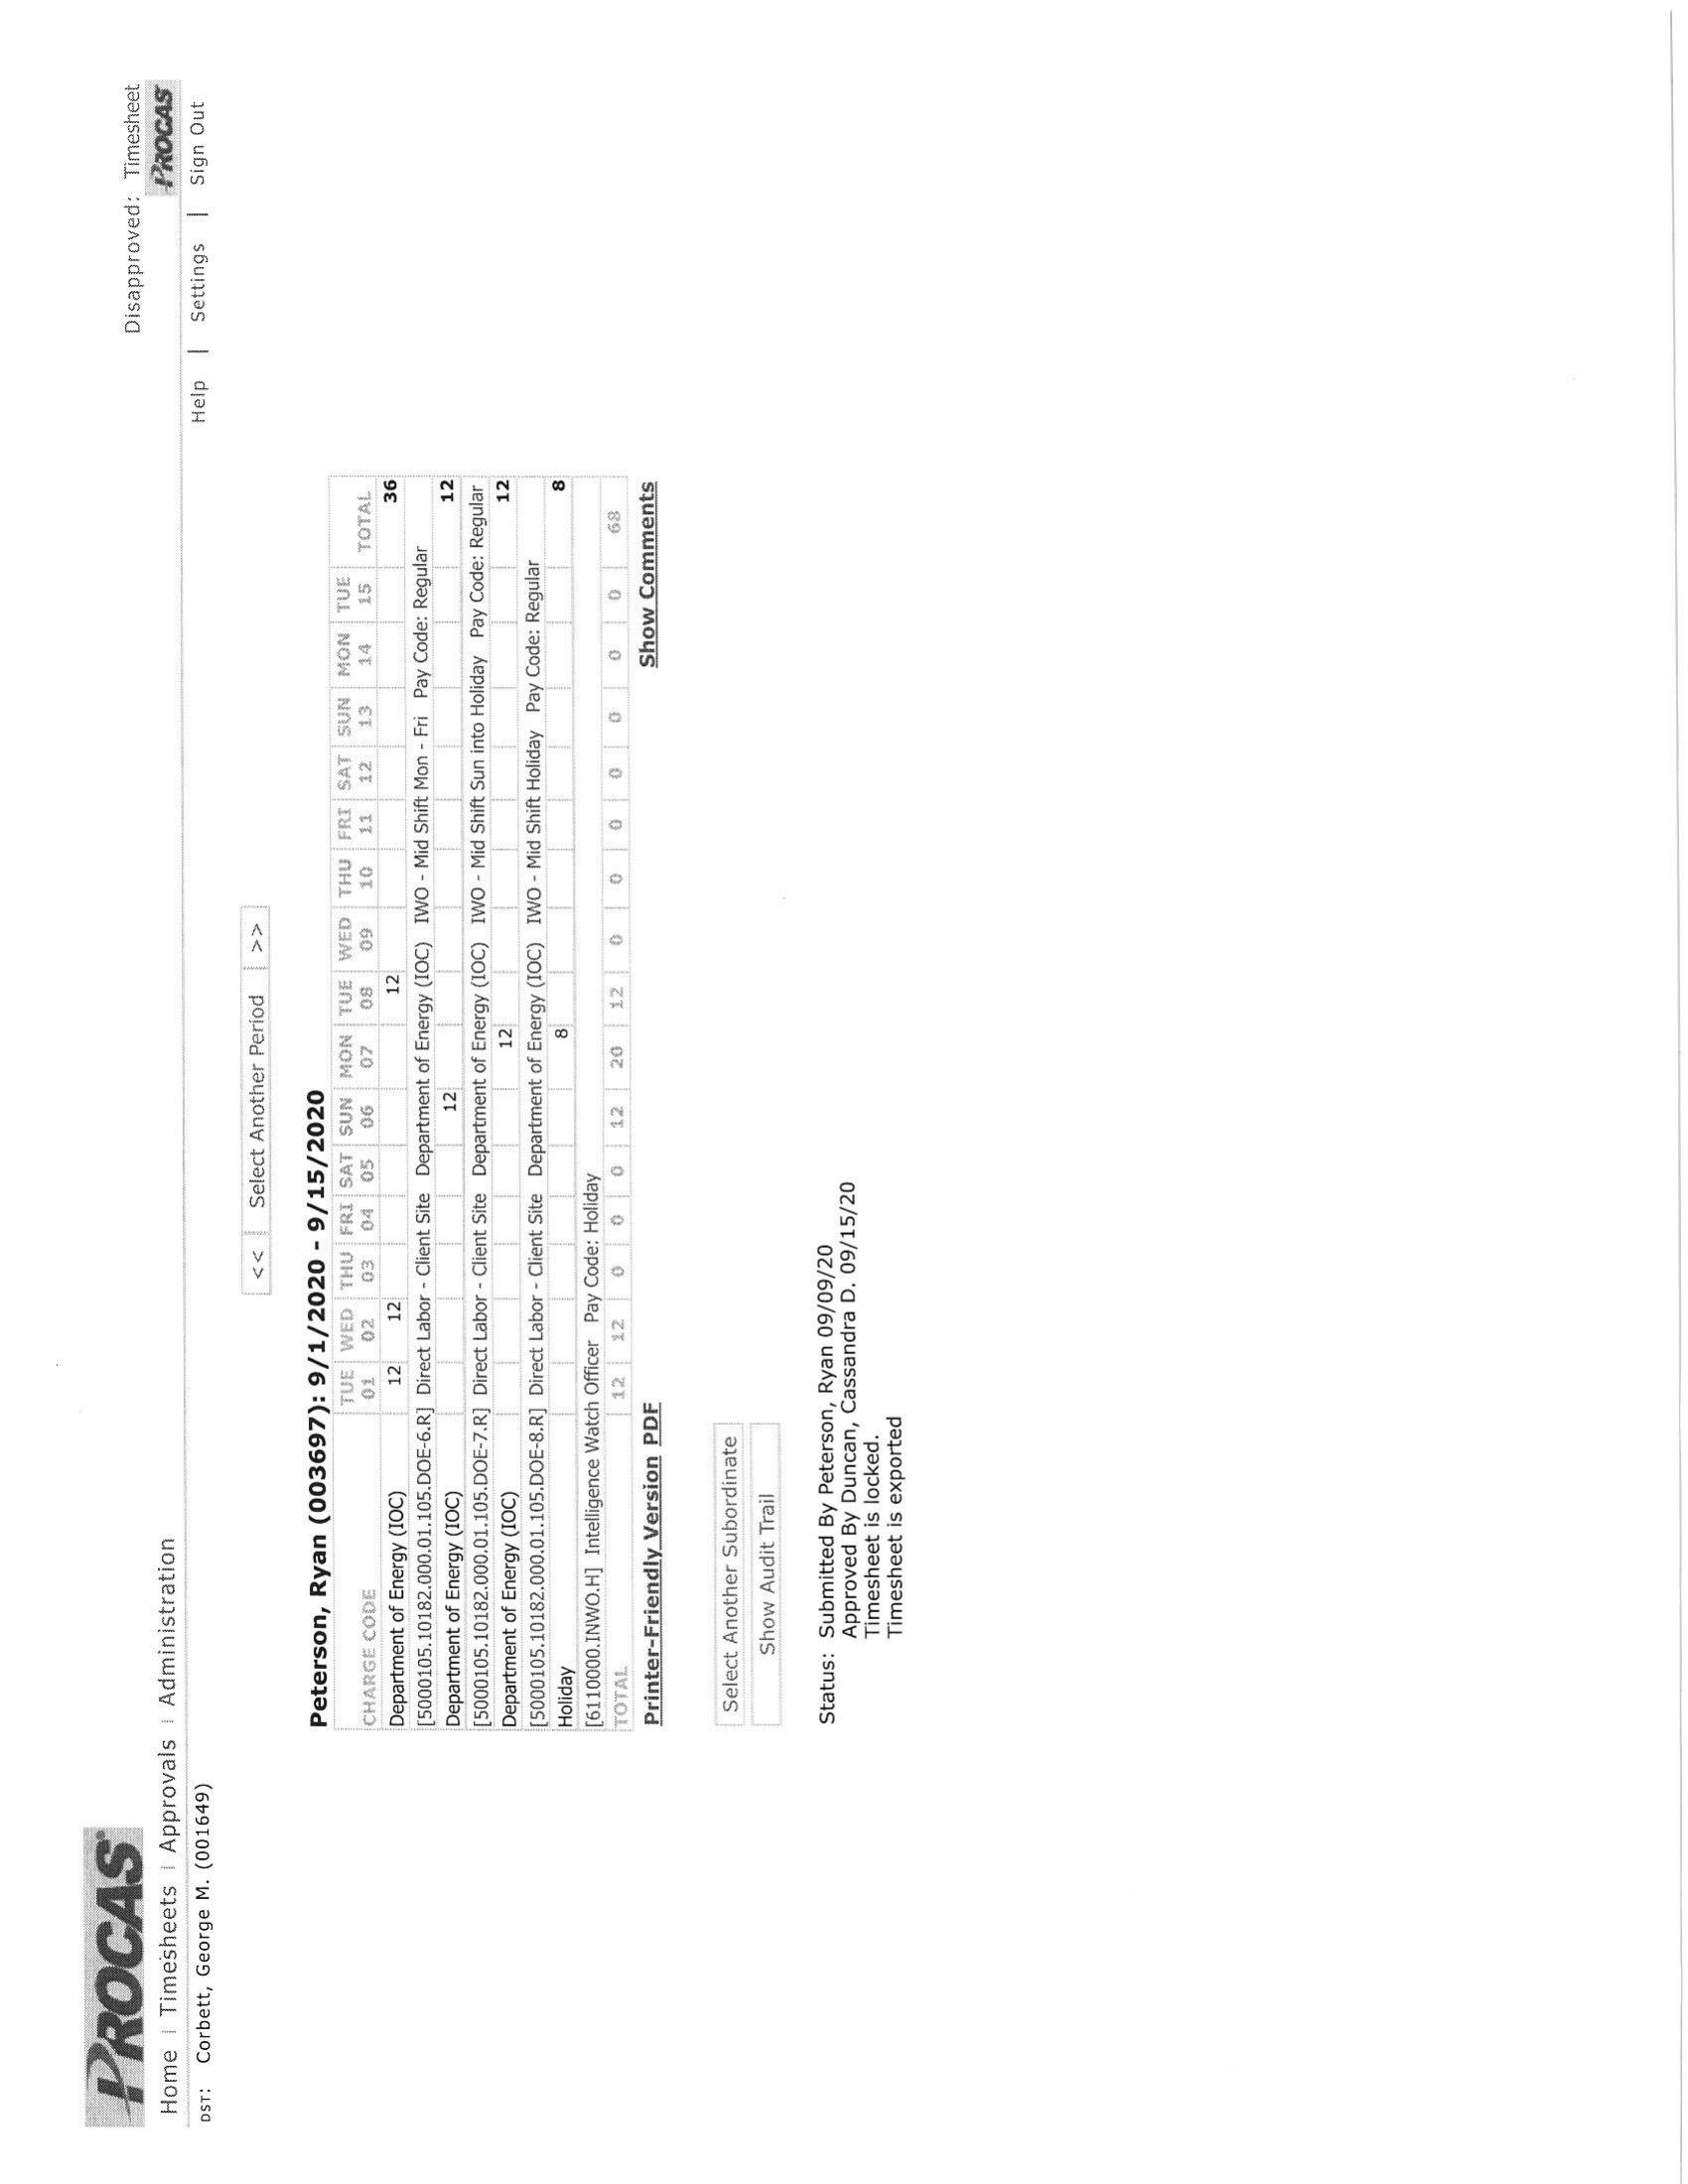table: (314, 459, 633, 1735)
